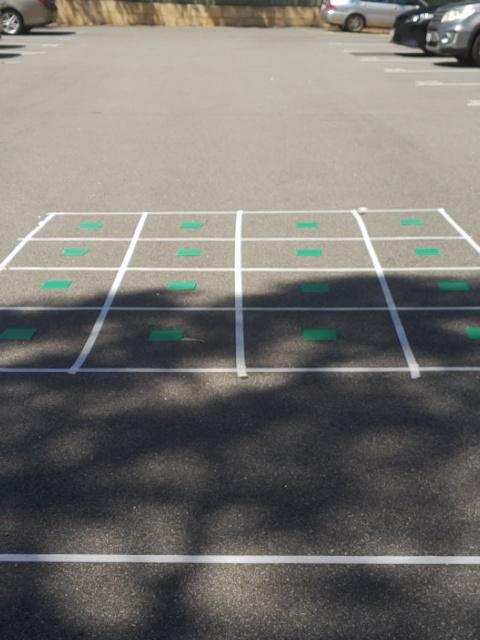weed: (0, 327, 38, 340), (149, 329, 185, 342), (304, 328, 337, 342), (438, 280, 469, 291), (168, 280, 197, 291), (42, 279, 73, 289), (302, 282, 330, 293), (61, 247, 89, 256), (414, 247, 441, 256), (297, 248, 321, 258), (177, 248, 203, 255), (78, 222, 103, 229), (179, 221, 204, 228), (294, 221, 319, 228), (466, 326, 480, 338), (400, 218, 422, 225)
